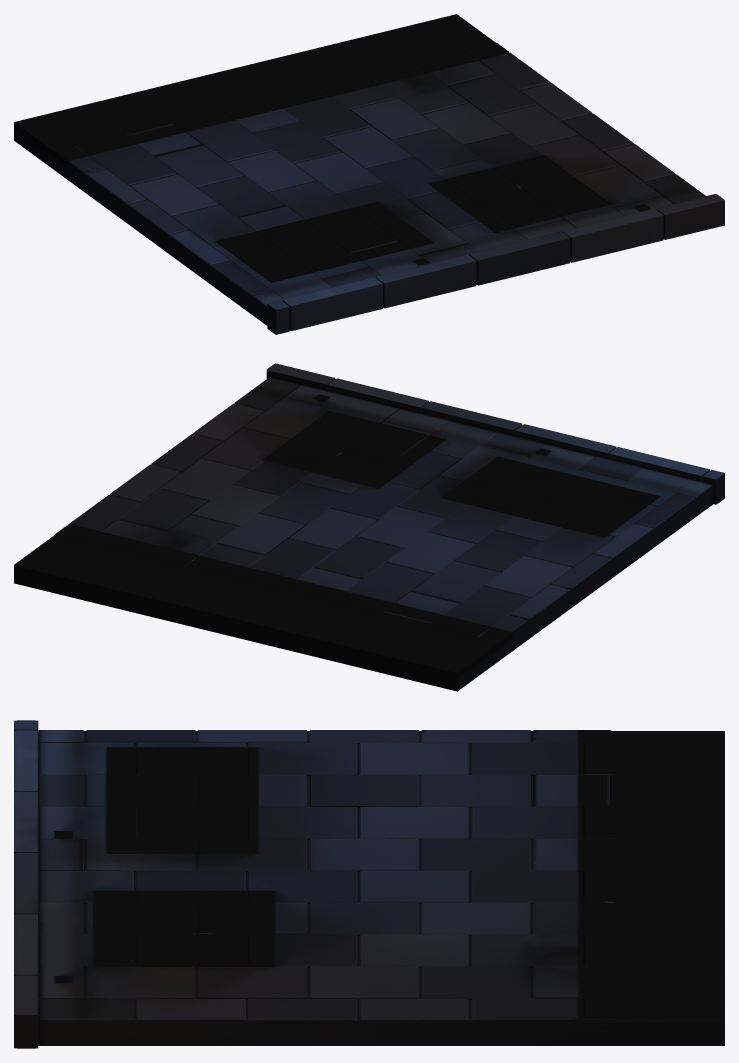
3 views of the same model, one above another, from view 1: azimuth 30°, elevation 25°; view 2: azimuth 150°, elevation 25°; view 3: azimuth 270°, elevation 25° (orthographic). The views are drawn at different scales.
Parts seen in each view (by area): view 1: Cube.015_Baked, Cube_Baked, Cube.012_Baked; view 2: Cube.015_Baked, Cube_Baked, Cube.012_Baked; view 3: Cube.015_Baked, Cube_Baked, Cube.012_Baked.
Boxes of the visible parts, x1=… form: Cube.015_Baked: x1=57, y1=43, x2=705, y2=306; Cube_Baked: x1=14, y1=14, x2=675, y2=325; Cube.012_Baked: x1=267, y1=194, x2=724, y2=334; Cube.015_Baked: x1=55, y1=377, x2=712, y2=641; Cube_Baked: x1=14, y1=397, x2=713, y2=691; Cube.012_Baked: x1=266, y1=363, x2=724, y2=504; Cube.015_Baked: x1=38, y1=730, x2=616, y2=1020; Cube_Baked: x1=38, y1=731, x2=724, y2=1045; Cube.012_Baked: x1=14, y1=720, x2=38, y2=1048.
Size of what is drawn, in the model's own units: 5.08 by 0.2714 by 5.18.
1 material, 1 textured.
